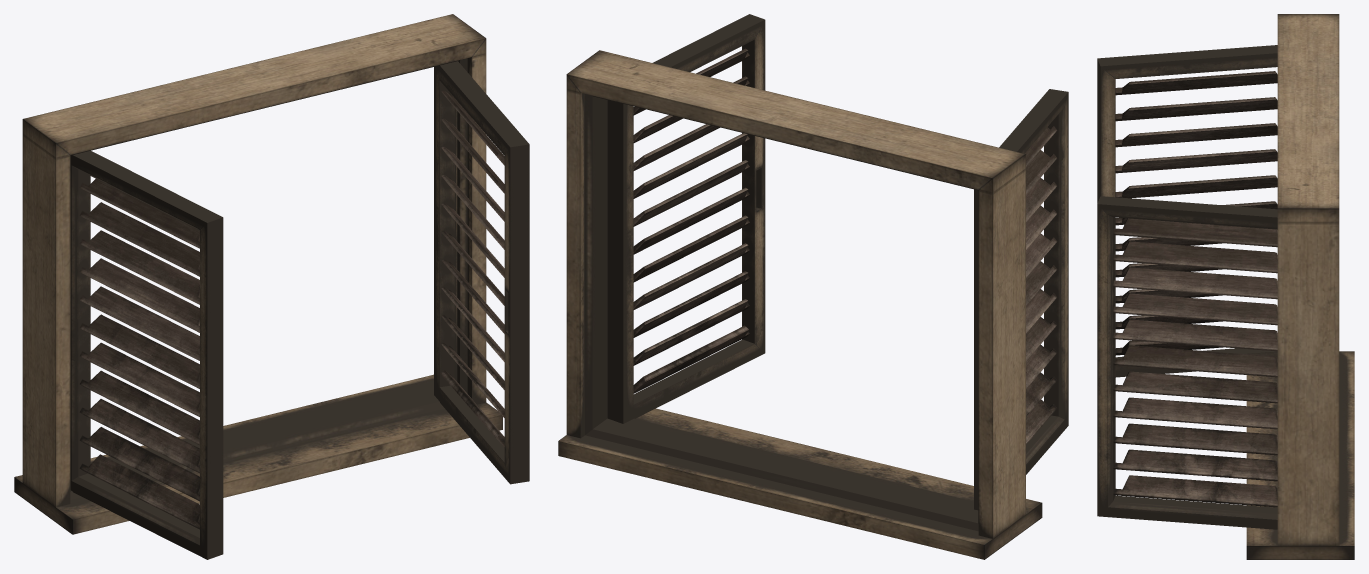
The model's file is weathered_wooden_window__gameready.glb.
3 renders of one model, left to right at view 1: azimuth 30°, elevation 25°; view 2: azimuth 150°, elevation 25°; view 3: azimuth 270°, elevation 25°, orthographic. The views are drawn at different scales.
Parts seen in each view (by area): view 1: WoodenWindowFrame, WoodenWindowLeft, WoodenWindowRight; view 2: WoodenWindowFrame, WoodenWindowRight, WoodenWindowLeft; view 3: WoodenWindowRight, WoodenWindowFrame, WoodenWindowLeft.
Boxes of the visible parts, box(x1,y1,x2,y2) form: WoodenWindowFrame: box(14, 14, 502, 534); WoodenWindowLeft: box(70, 150, 223, 559); WoodenWindowRight: box(434, 61, 529, 484); WoodenWindowFrame: box(558, 50, 1042, 559); WoodenWindowRight: box(607, 14, 765, 423); WoodenWindowLeft: box(974, 89, 1068, 510); WoodenWindowRight: box(1097, 196, 1277, 529); WoodenWindowFrame: box(1246, 14, 1354, 559); WoodenWindowLeft: box(1097, 45, 1277, 377).
Bounding box in the file's own units: 1.49 × 1.26 × 0.8344.
1 material, 1 textured.
